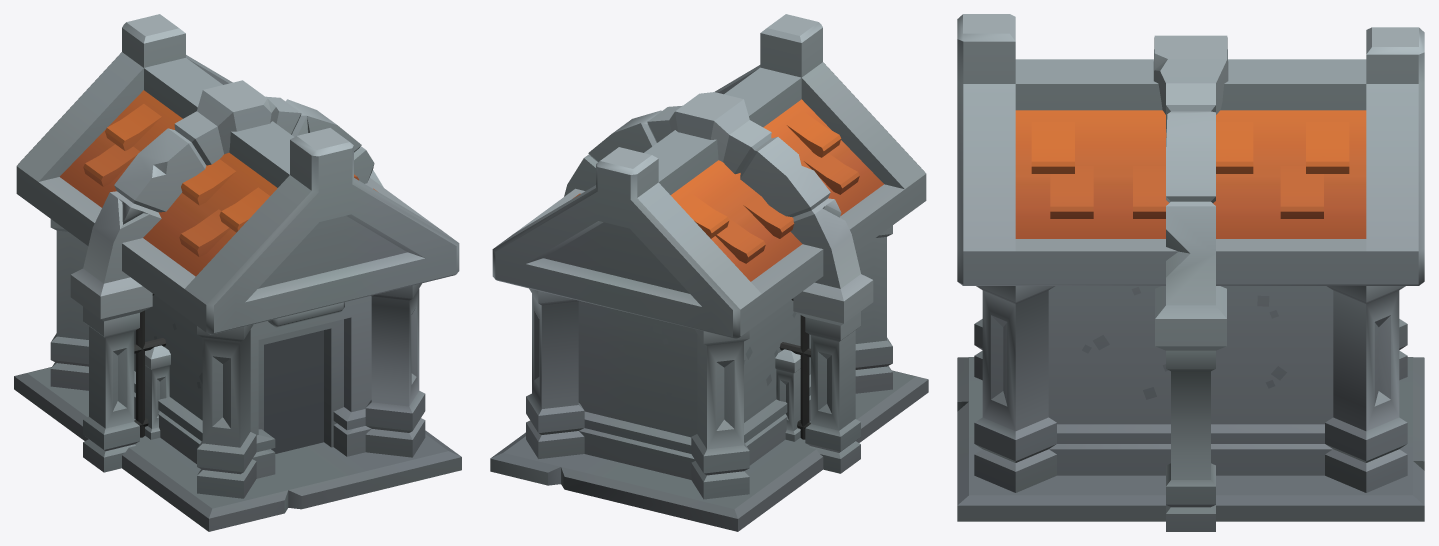
File: props_graveyard.bfa54c315e.glb
The picture shows the model from 3 angles, left to right: view 1: azimuth 30°, elevation 25°; view 2: azimuth 150°, elevation 25°; view 3: azimuth 270°, elevation 25°; orthographic projection. The views are drawn at different scales.
Visible parts, largest first — view 1: crypt_crypt, ruin_arch_arch, fence_fence, ruin_gate_arch_gate_right; view 2: crypt_crypt, ruin_arch_arch, fence_fence, ruin_gate_arch_gate_right; view 3: crypt_crypt, ruin_arch_arch.
Part boxes in pixels (bbox=[...]): crypt_crypt: bbox=[14, 14, 461, 531]; ruin_arch_arch: bbox=[70, 80, 383, 472]; fence_fence: bbox=[145, 345, 170, 439]; ruin_gate_arch_gate_right: bbox=[134, 294, 166, 437]; crypt_crypt: bbox=[490, 14, 928, 531]; ruin_arch_arch: bbox=[564, 92, 873, 473]; fence_fence: bbox=[775, 349, 800, 441]; ruin_gate_arch_gate_right: bbox=[779, 298, 810, 439]; crypt_crypt: bbox=[957, 14, 1424, 521]; ruin_arch_arch: bbox=[1153, 35, 1228, 531].
Bounding box in the file's own units: 3.25 × 3.6 × 3.6.
1 material, 1 textured.
